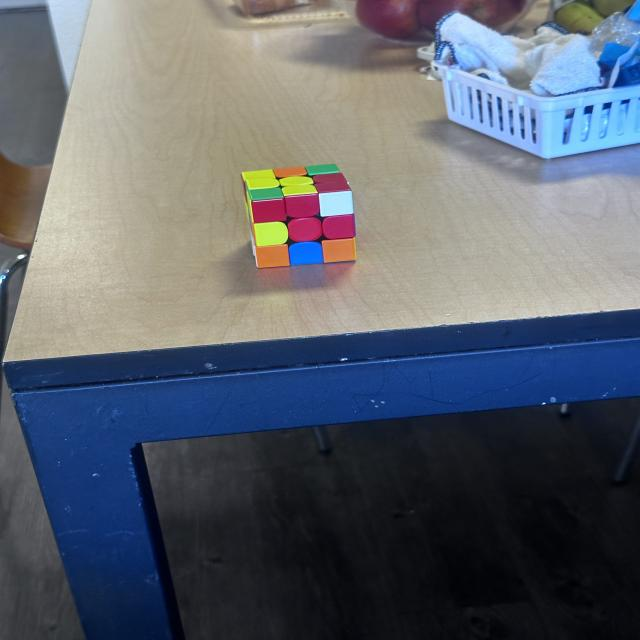sticker: (248, 195, 286, 225), (284, 190, 321, 219), (286, 215, 324, 243), (318, 190, 354, 218), (252, 221, 290, 247), (254, 242, 291, 268), (321, 213, 356, 240), (322, 237, 358, 263), (288, 240, 324, 266), (312, 173, 350, 192), (247, 187, 283, 202), (242, 169, 278, 183), (273, 166, 309, 179), (280, 184, 318, 196), (245, 178, 280, 191), (306, 164, 341, 176), (280, 176, 315, 187)
